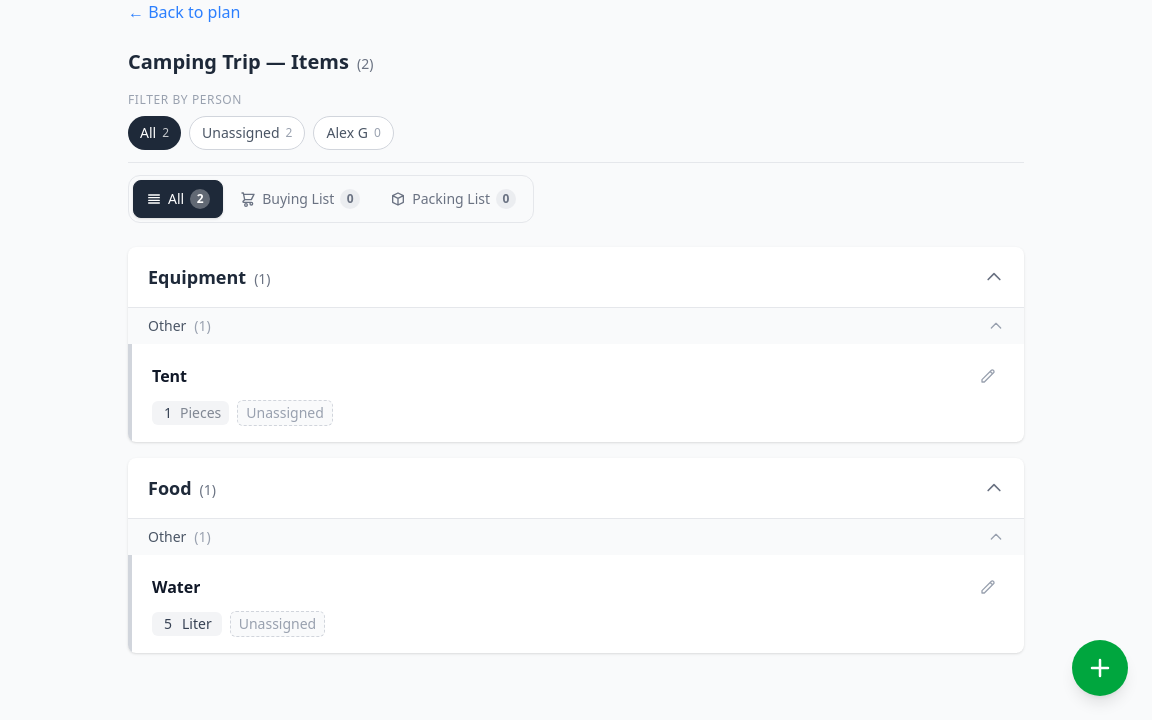
ItemsView › opens add item modal when FAB speed-dial action is clicked
The width and height of the screenshot is (1152, 720).
Step 1. Click the button with test id "speed-dial-trigger" → (1100, 668), box x1=1072 y1=640 x2=1128 y2=696
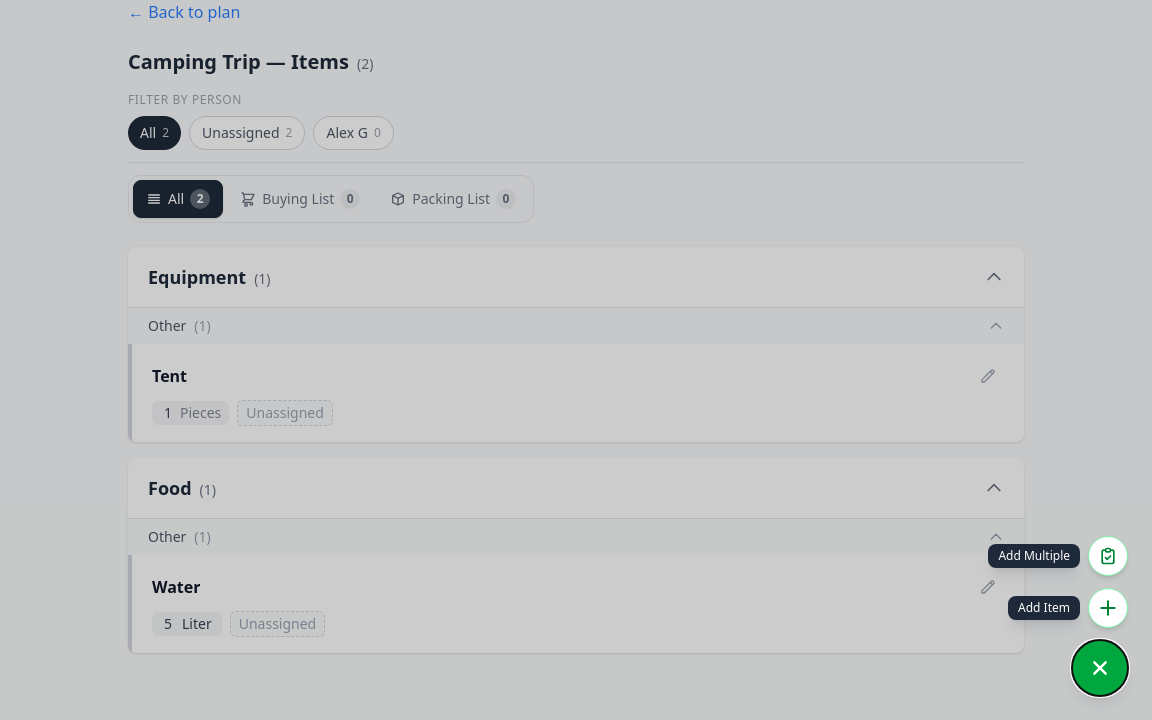
Step 2. Click the button with test id "add-item-fab" → (1108, 608), box x1=1088 y1=588 x2=1128 y2=628
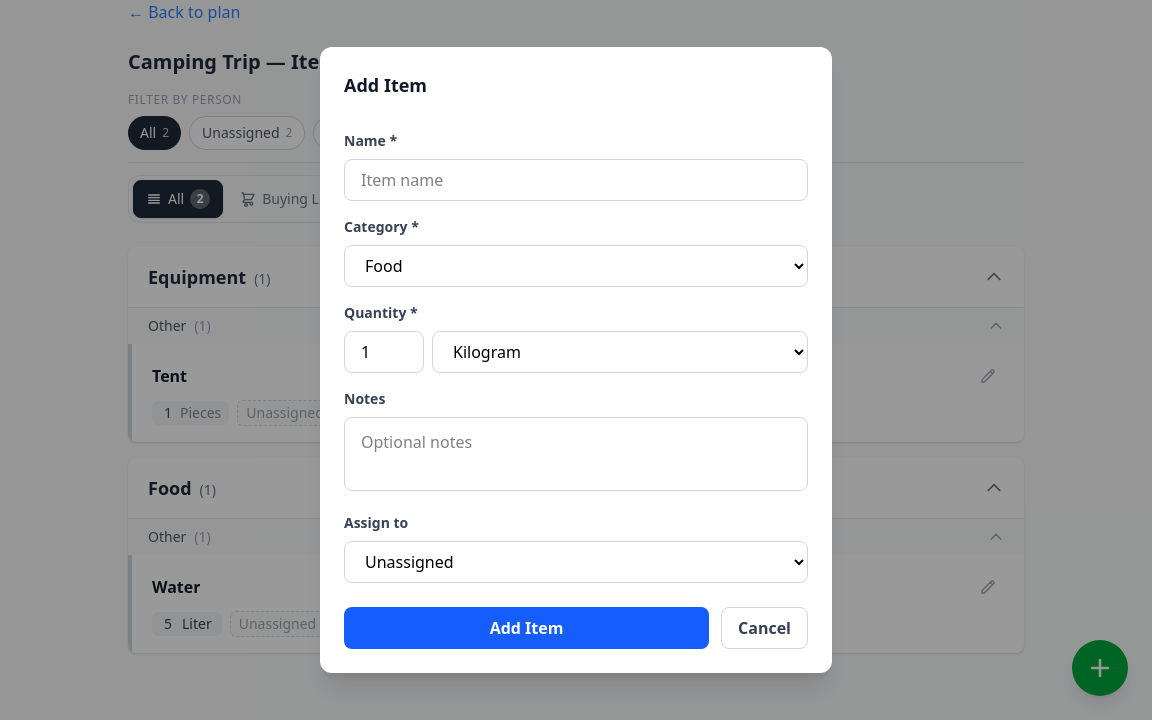
Expected: the heading "Add Item" is shown, x1=344 y1=71 x2=427 y2=99
